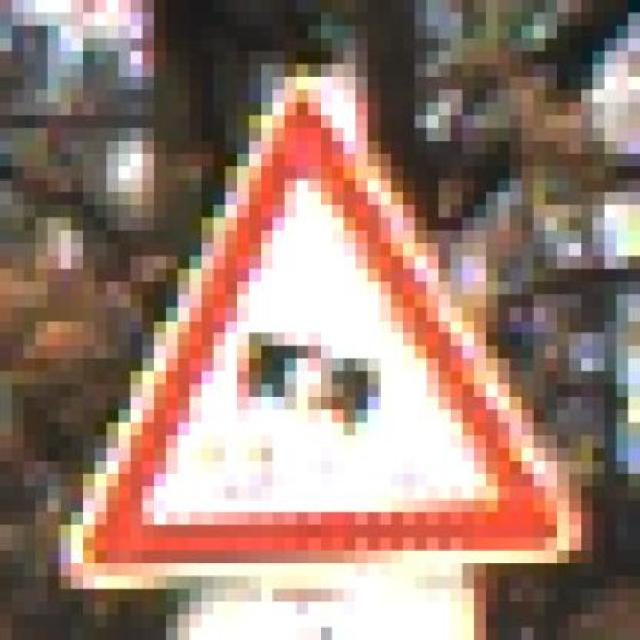Slippery Road Ahead: (58, 64, 604, 602)
